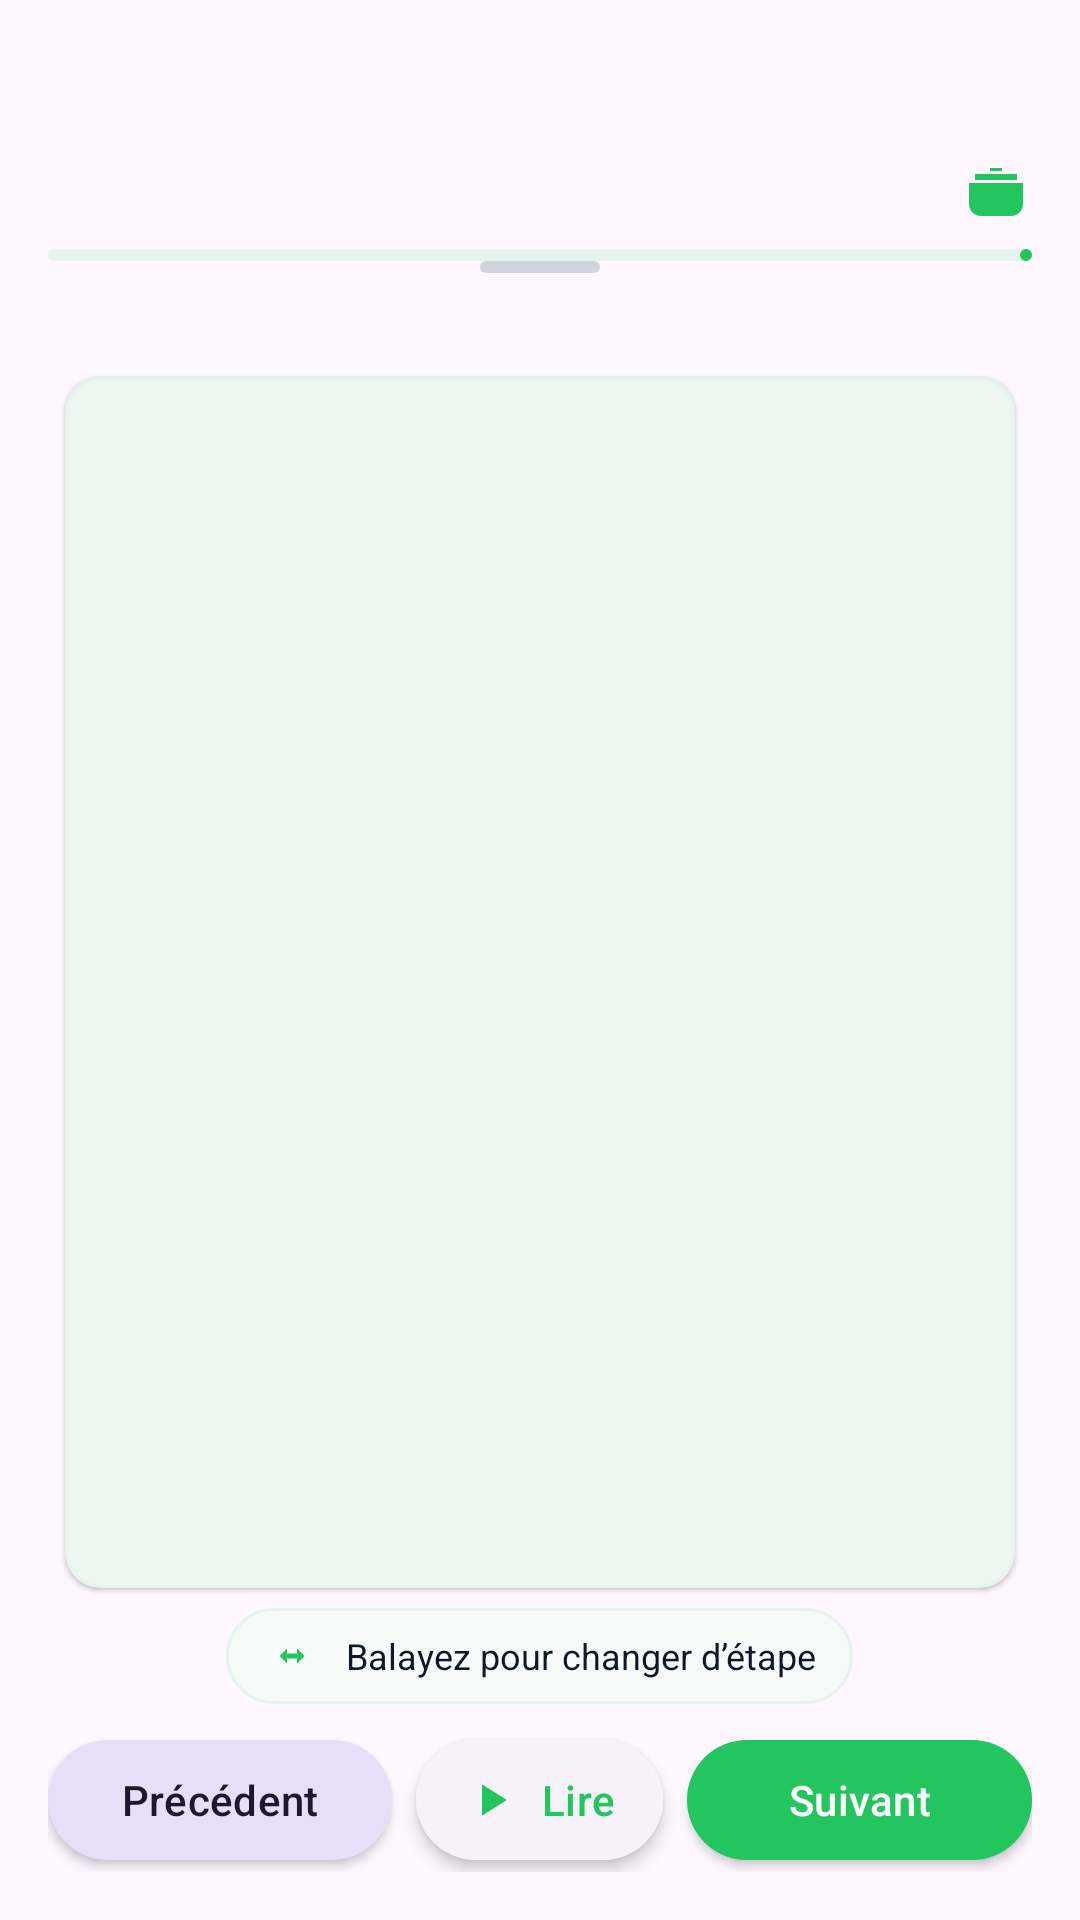

Named icons in this screenshot (1080*1920) and their bounding boxes, (x1=x1, y1=y1, x2=x2, y2=y2):
cooking: (x1=969, y1=168, x2=1023, y2=216)
swipe: (x1=280, y1=1648, x2=305, y2=1664)
